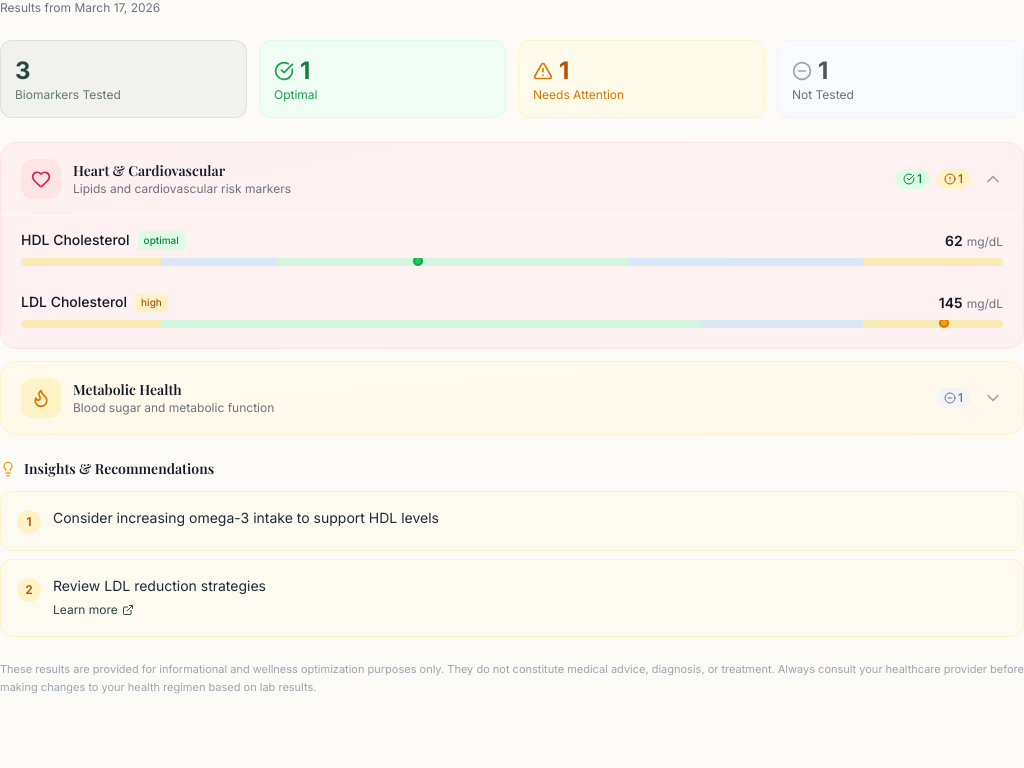
LabsResultsView › opens biomarker detail modal on click
Expected: the heading "Heart & Cardiovascular" is shown, [73, 161, 225, 180]
Note: First category is expanded by default — click a biomarker
Click the text "HDL Cholesterol": (75, 240) [21, 230, 130, 250]
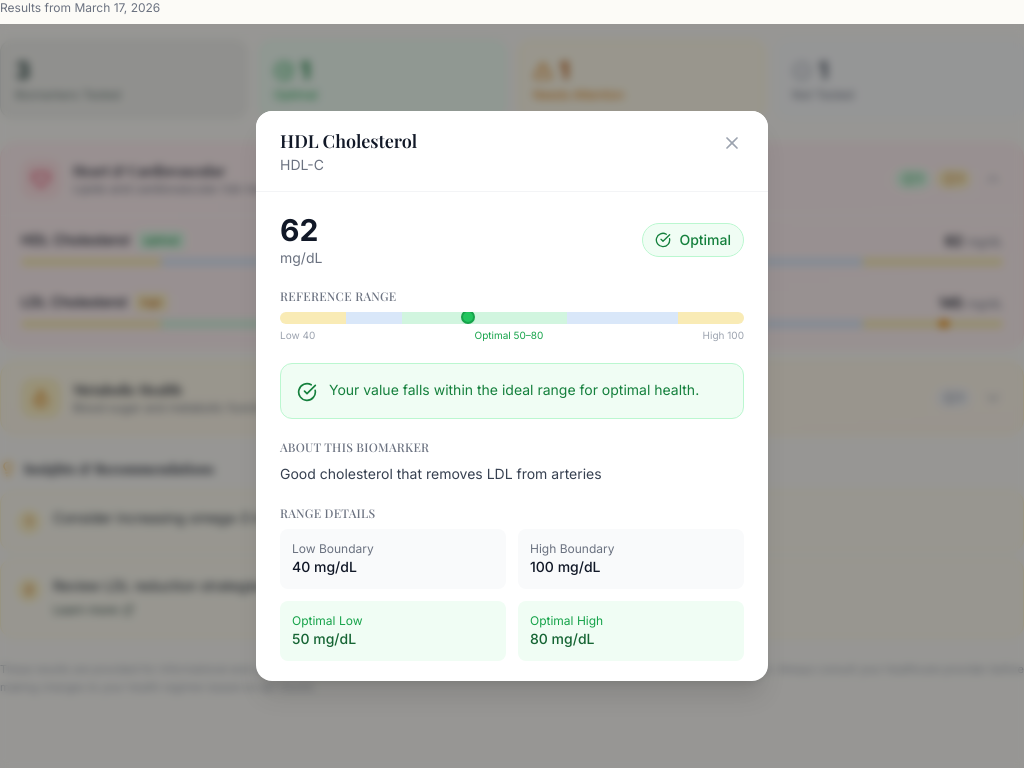
Now the heading "About This Biomarker" is shown, box [280, 439, 429, 455]
Now the text "Good cholesterol that removes LDL from arteries" is shown, box [280, 465, 602, 482]
